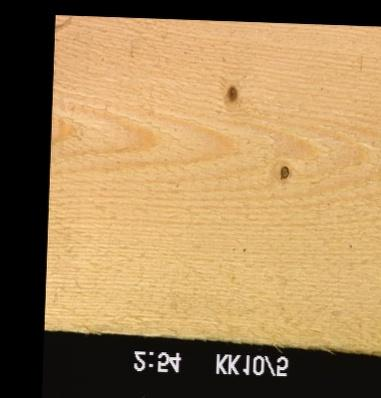dry_knot: (223, 84, 237, 104), (277, 164, 289, 180)
